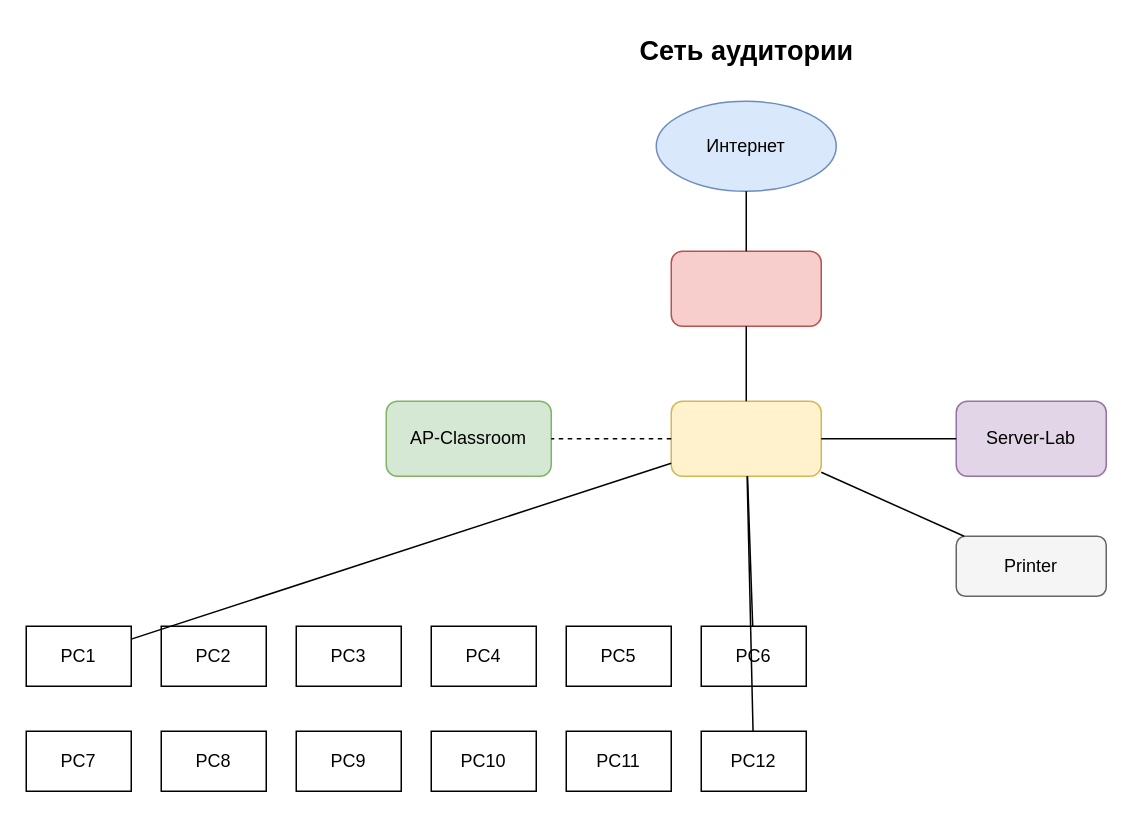
This 1133x818 diagram has some shape labels left out. Each missing label, with the centre of its shape:
"Router0" goes at (x=745, y=288).
"Switch0" goes at (x=745, y=438).
